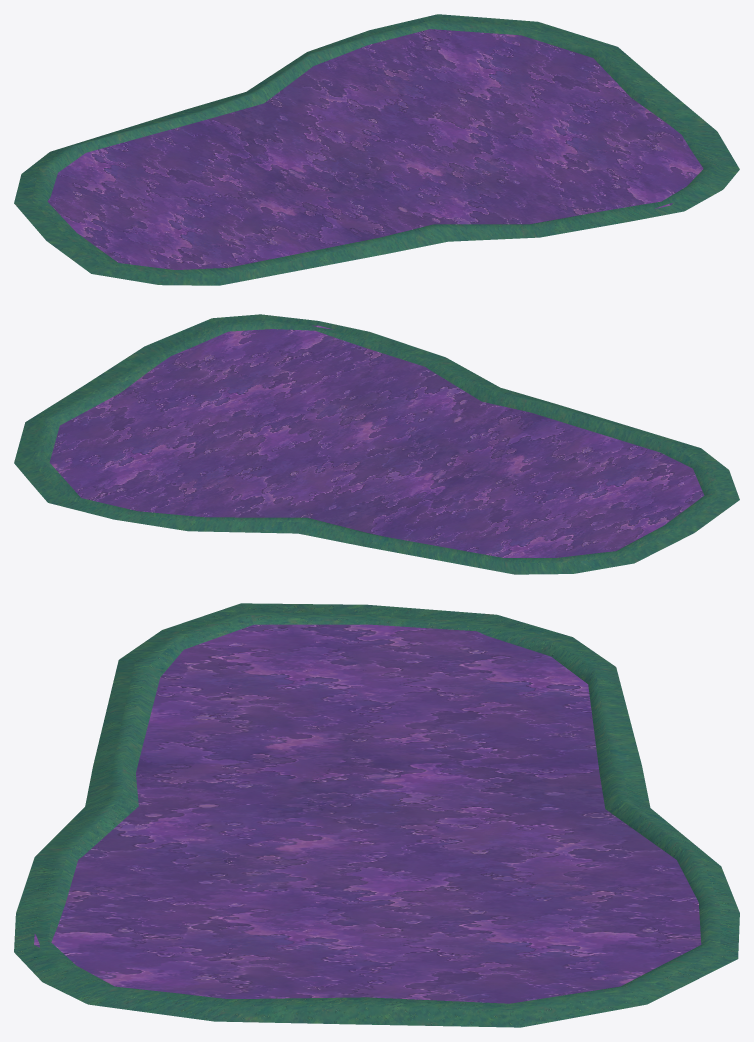
Rendered from CarecenterMud.glb.
3 renders of one model, top to bottom at view 1: azimuth 30°, elevation 25°; view 2: azimuth 150°, elevation 25°; view 3: azimuth 270°, elevation 25°, orthographic. The views are drawn at different scales.
Visible parts, largest first — view 1: Carecenterwaterpool01; view 2: Carecenterwaterpool01; view 3: Carecenterwaterpool01.
Boxes of the visible parts, x1,y1,x2,y2 form: Carecenterwaterpool01: (14,14,739,285); Carecenterwaterpool01: (14,314,739,574); Carecenterwaterpool01: (14,603,739,1027).
Size of the model in its own units: 42.11 by 0.6447 by 30.46.
2 materials, 2 textured.
